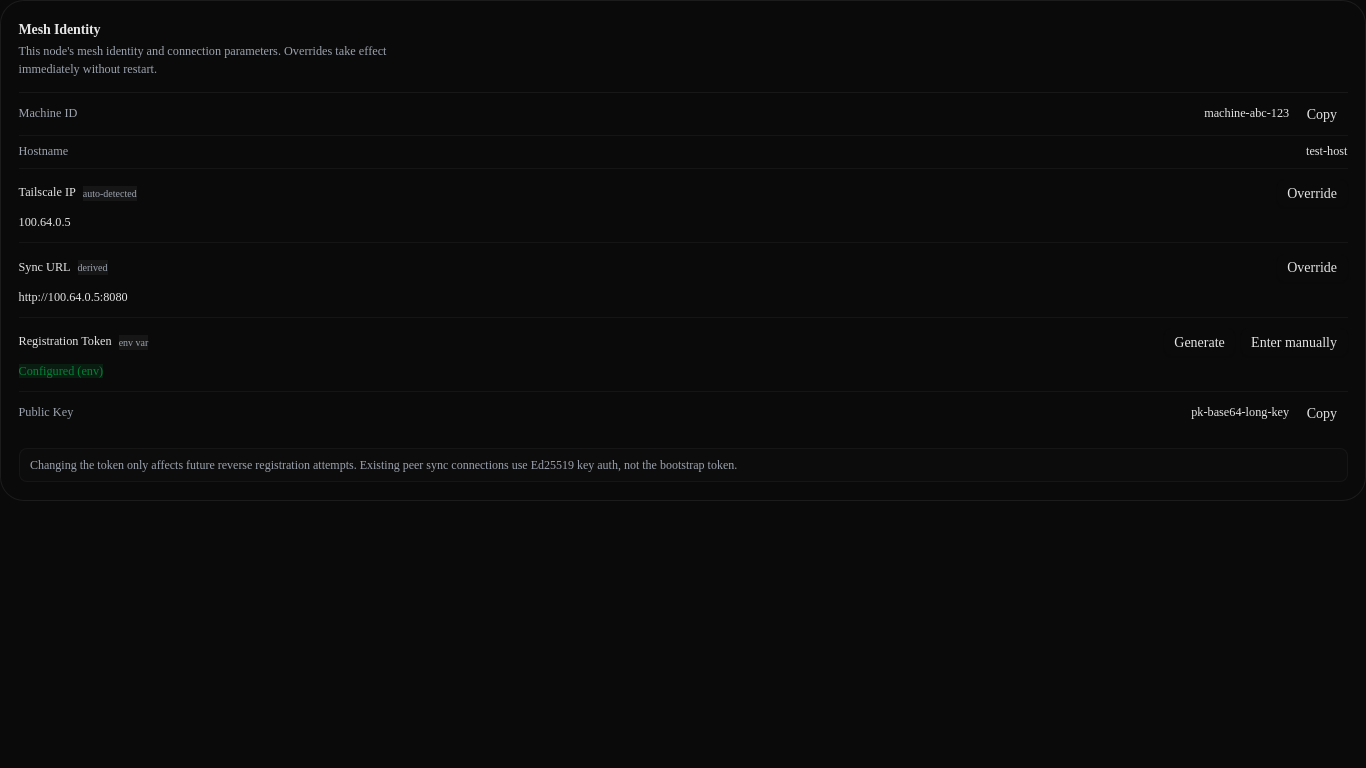
Test: MeshConfigSection › rejects loopback IP
Click the button "Override" in the row of "auto-detected" at coordinates (1312, 193), box [1277, 179, 1348, 207]
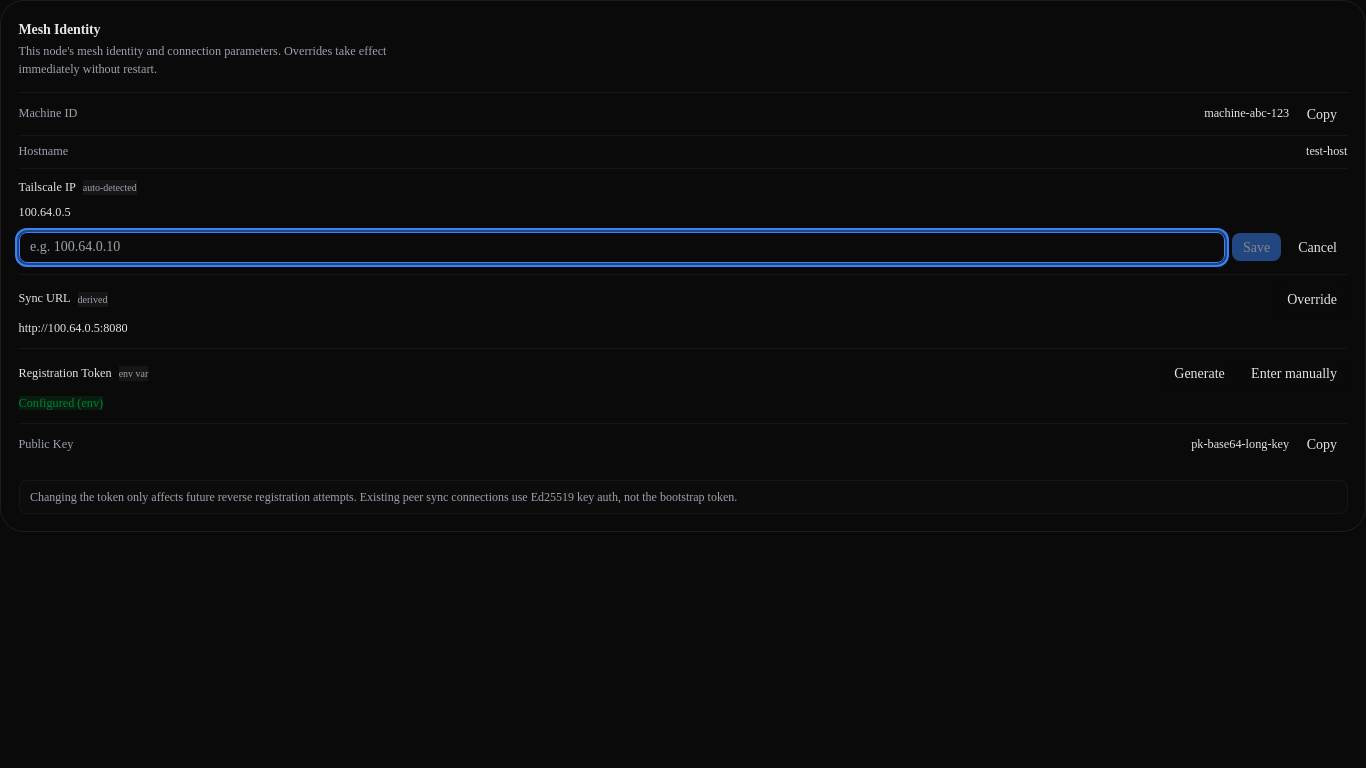
Type "127.0.0.1" into the field with placeholder "e.g. 100.64.0.10" at coordinates (622, 247), box [18, 232, 1225, 263]
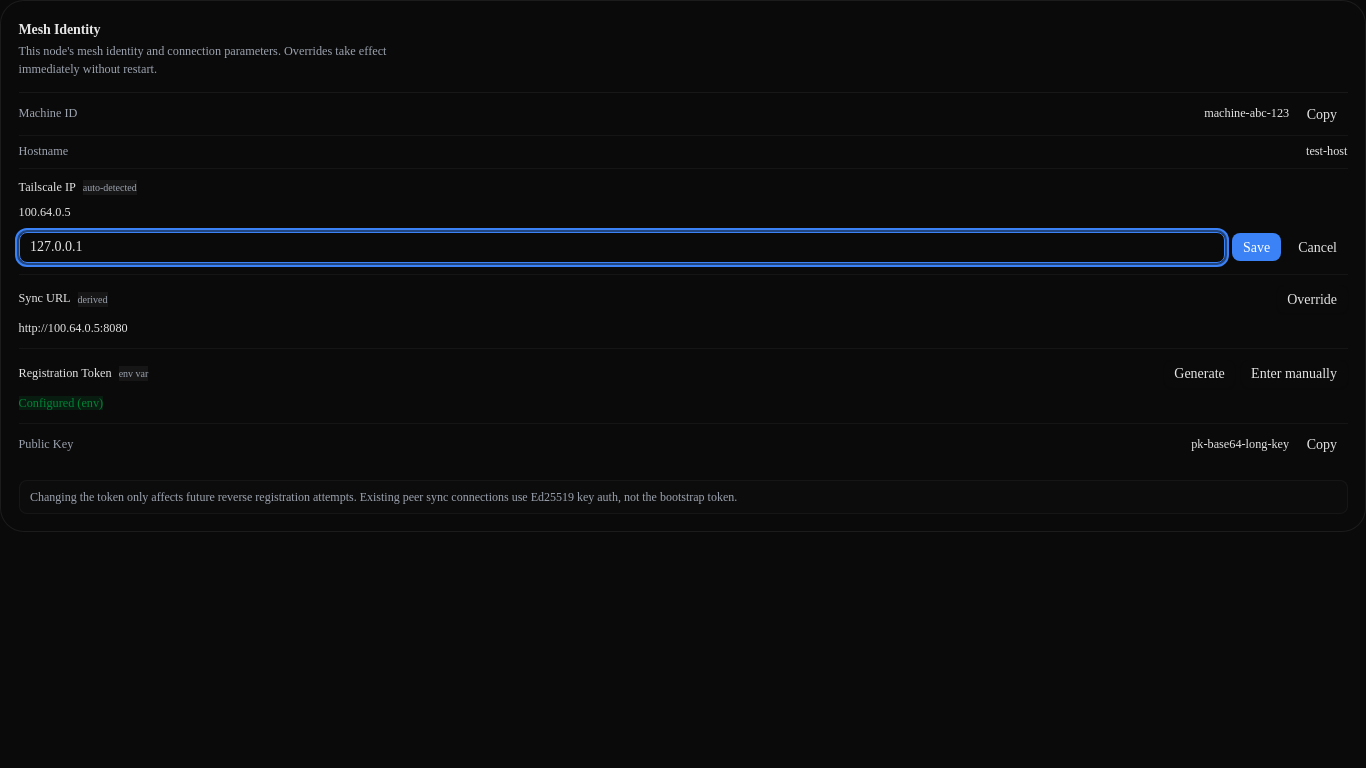
Click the button "Save" at coordinates (1256, 247), box [1232, 233, 1281, 261]
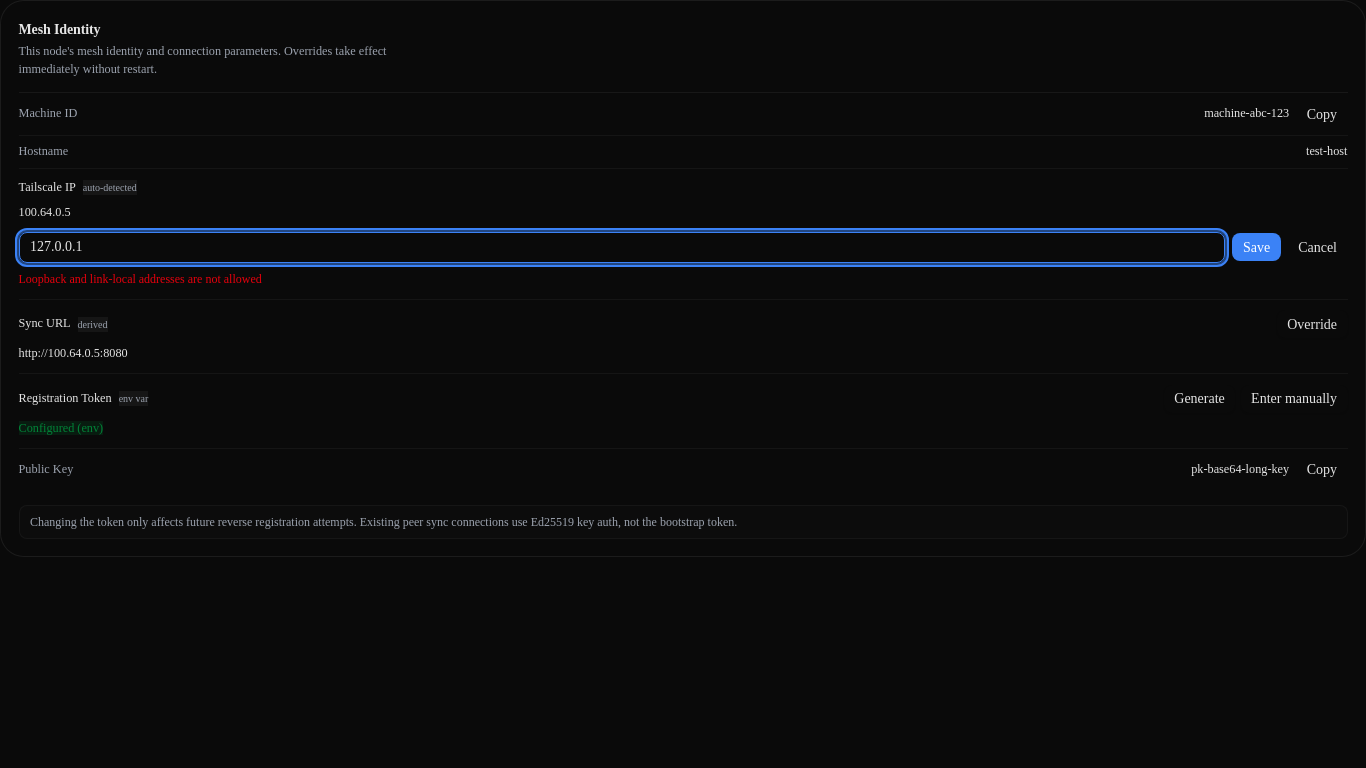
Expected: the text "Loopback and link-local addresses are not allowed" is shown, [18, 272, 262, 286]
